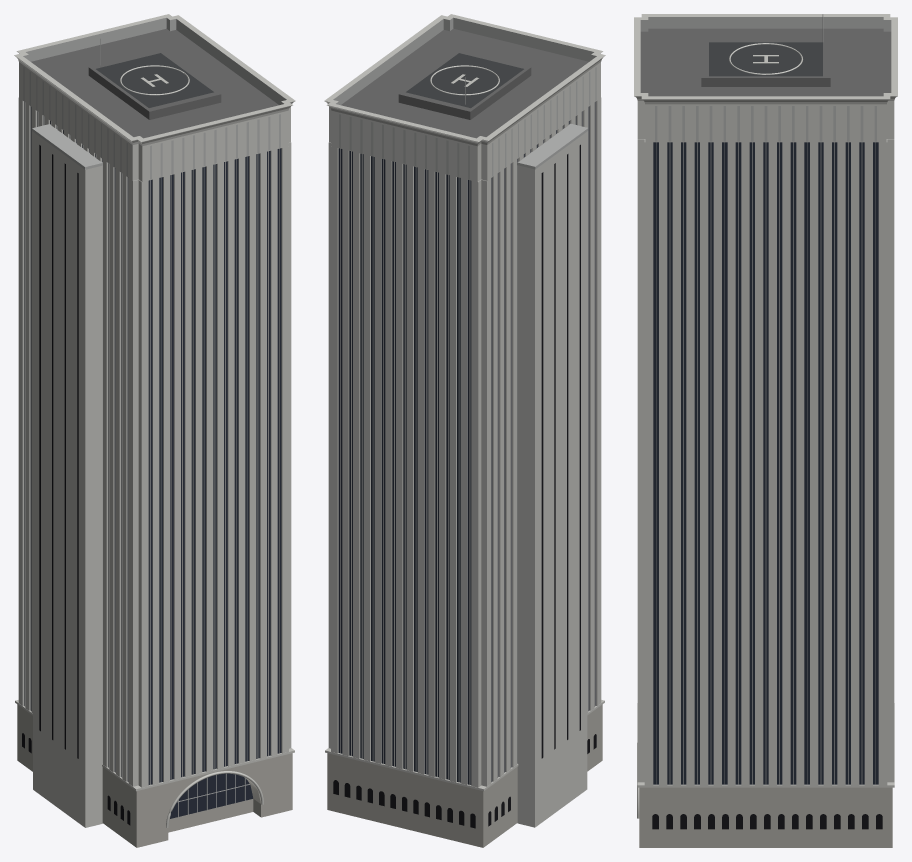
The picture shows the model from 3 angles, left to right: view 1: azimuth 30°, elevation 25°; view 2: azimuth 150°, elevation 25°; view 3: azimuth 270°, elevation 25°; orthographic projection. The views are drawn at different scales.
Parts seen in each view (by area): view 1: torre_picasso, glass; view 2: torre_picasso, glass; view 3: torre_picasso, glass.
Boxes of the visible parts, left/top/right/bottom form: torre_picasso: left=14, top=14, right=295, bottom=847; glass: left=24, top=102, right=281, bottom=818; torre_picasso: left=324, top=14, right=605, bottom=847; glass: left=338, top=102, right=595, bottom=784; torre_picasso: left=634, top=14, right=897, bottom=847; glass: left=653, top=142, right=878, bottom=784.
Size of the model in its own units: 42.34 by 166 by 50.96.
